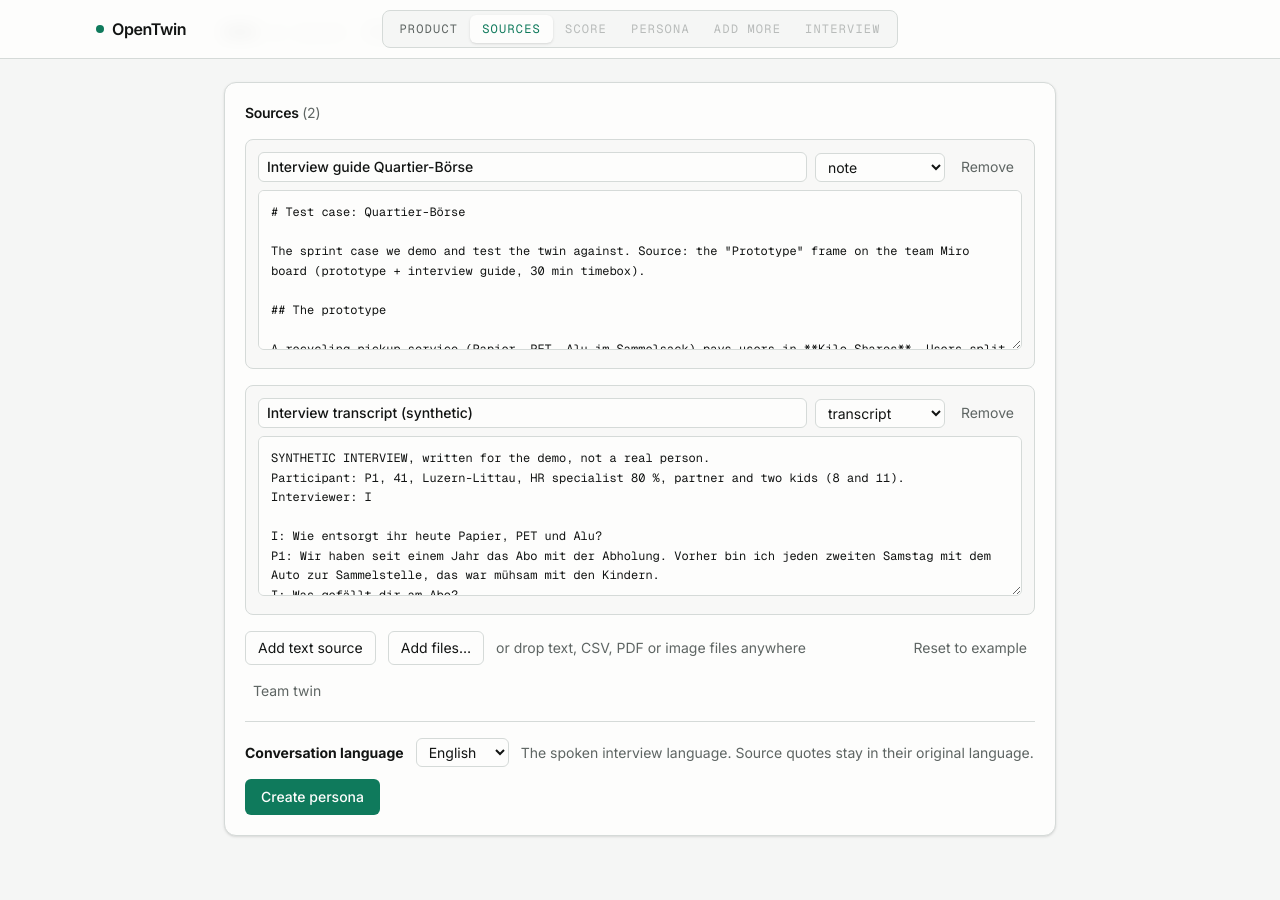
it: scoped studio defaults › gives the Team twin empty product/questions and restores defaults only on reset
The width and height of the screenshot is (1280, 900).
(page scrolled)
Click the button "Team twin": (287, 691) left=245, top=677, right=329, bottom=705
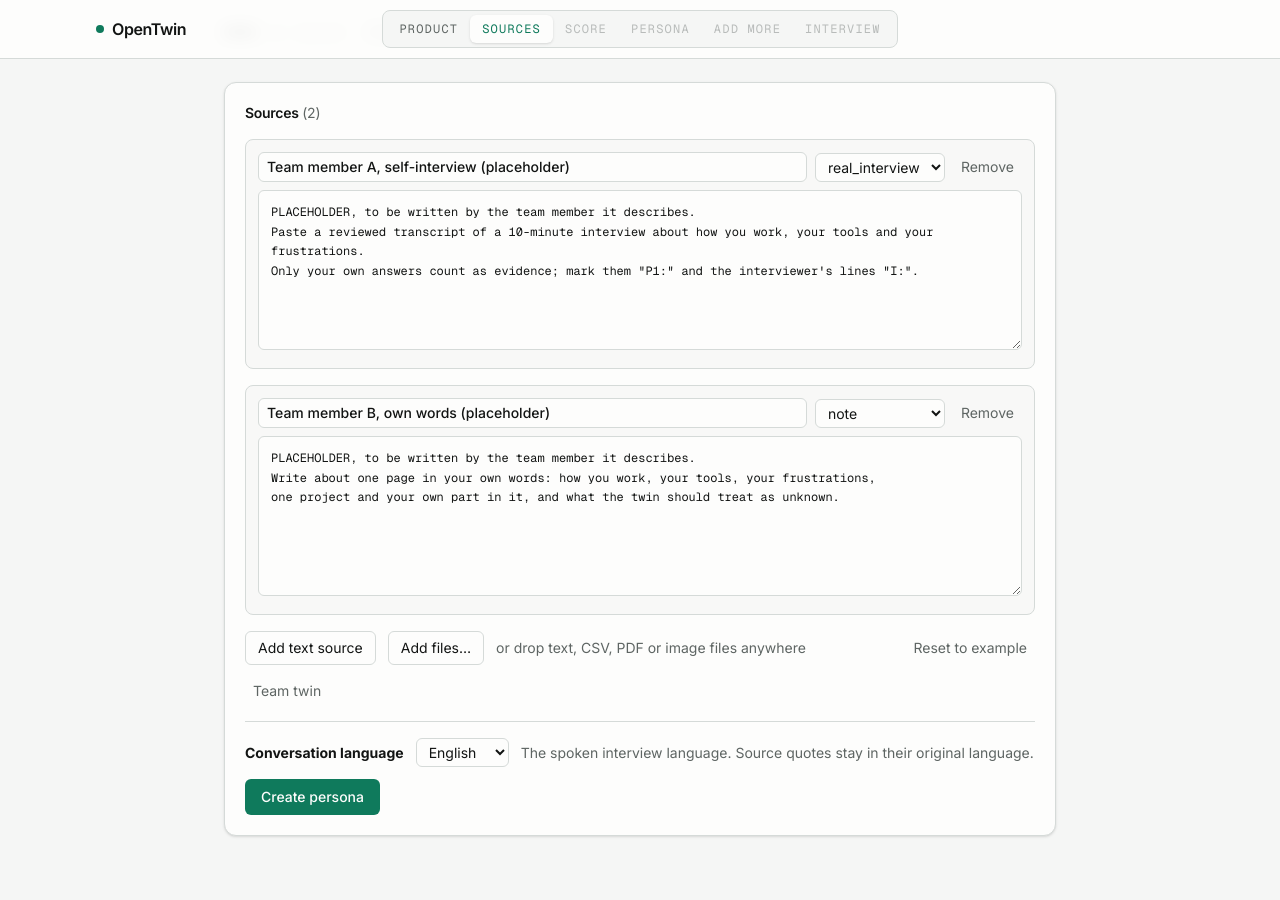
Click the button "Product": (429, 29) left=387, top=15, right=470, bottom=43
(page scrolled)
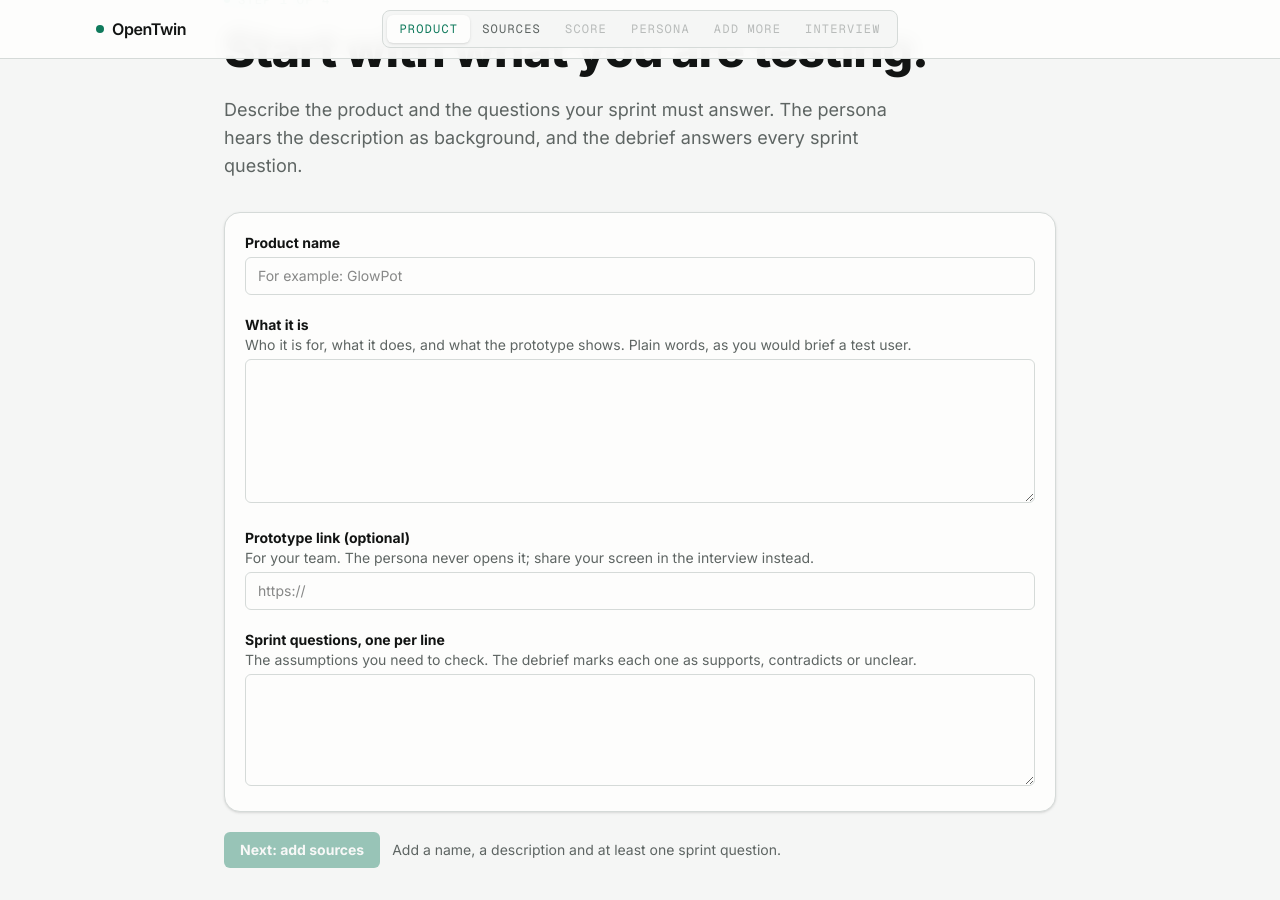
Expected: the field labelled "Product name" is empty, left=245, top=257, right=1035, bottom=295
Expected: the text box labelled "Sprint questions, one per line" is empty, left=245, top=674, right=1035, bottom=786
Click the button "Sources": (512, 29) left=470, top=15, right=553, bottom=43
(page scrolled)
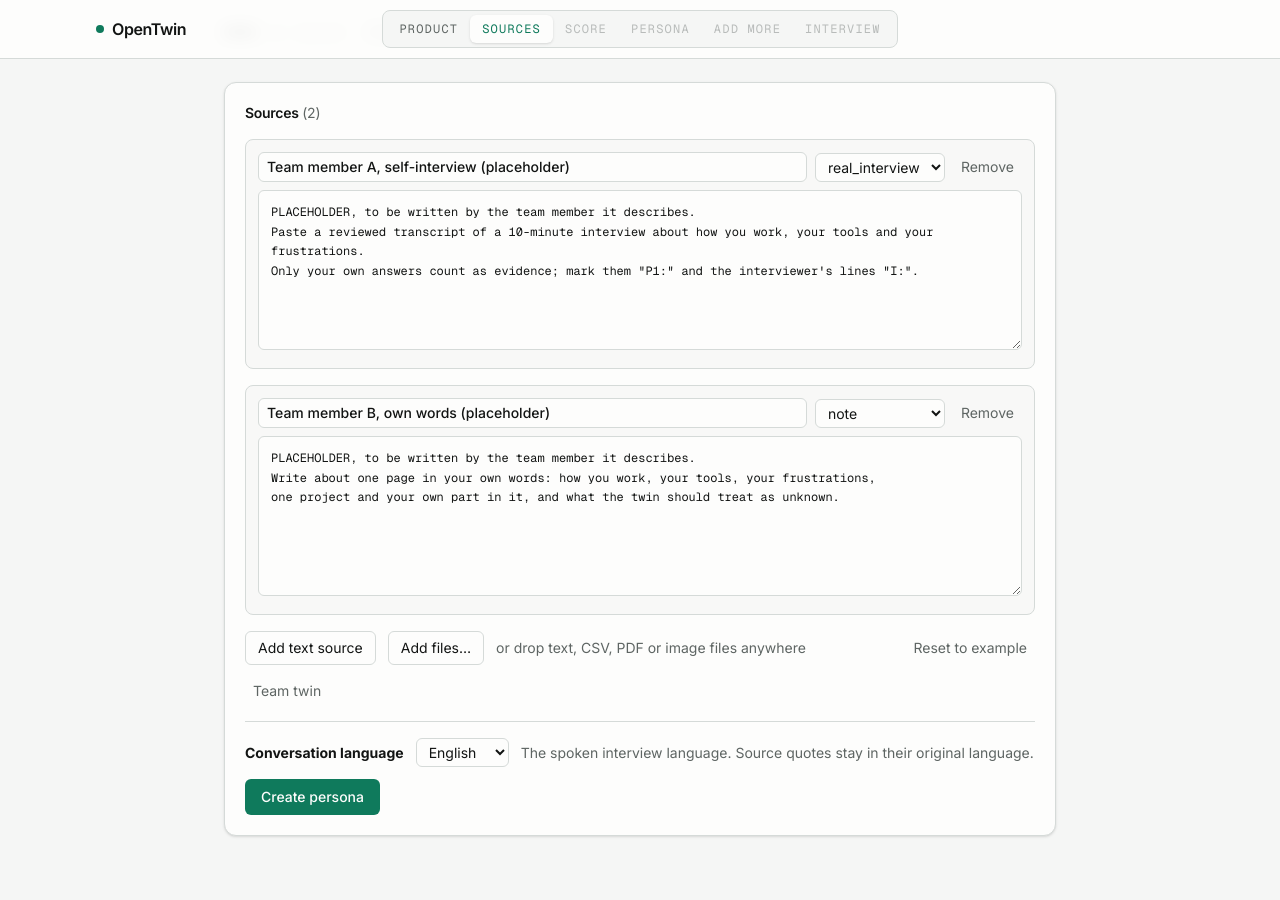
Click the button "Reset to example": (970, 648) left=905, top=634, right=1035, bottom=662
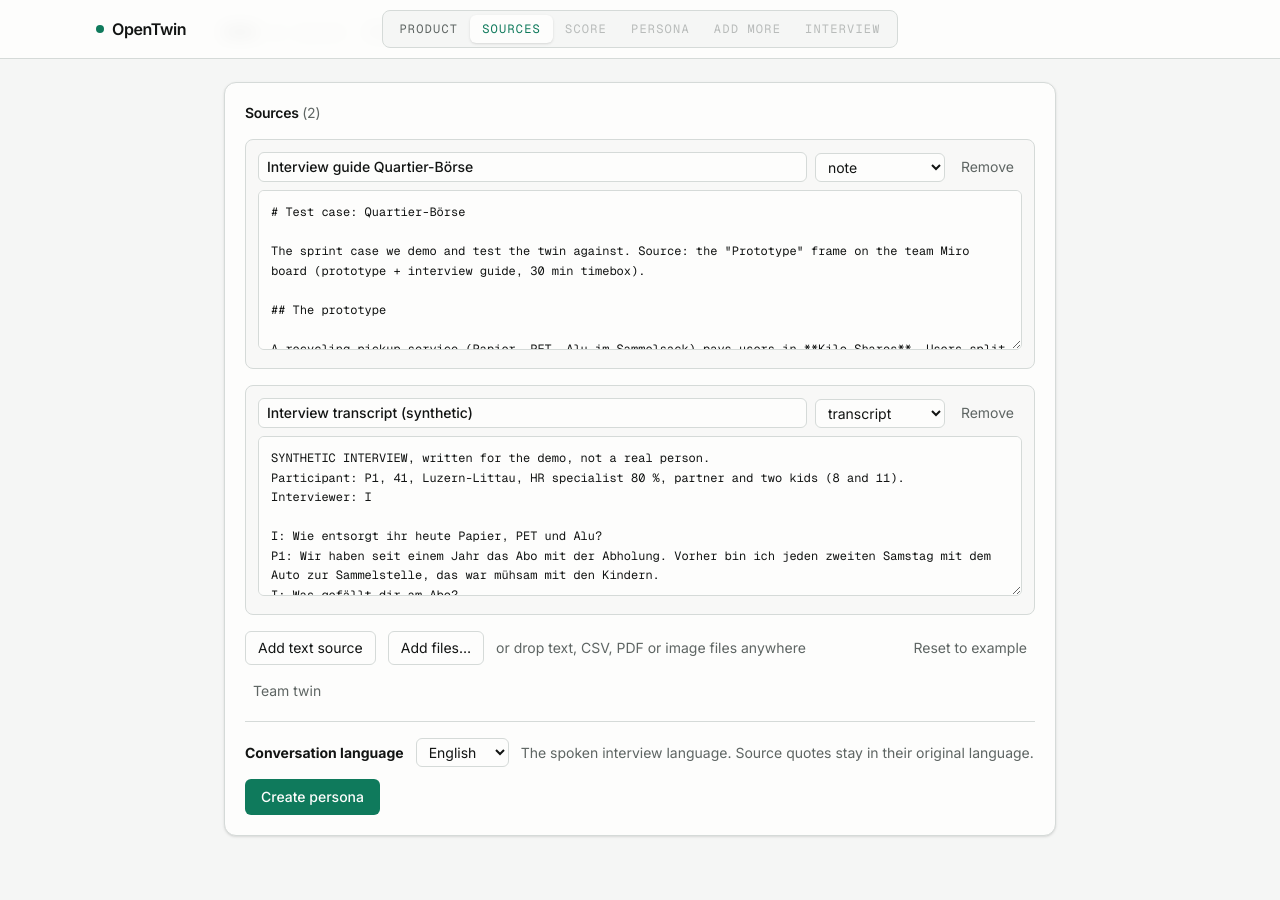
Click the button "Product": (429, 29) left=387, top=15, right=470, bottom=43
(page scrolled)
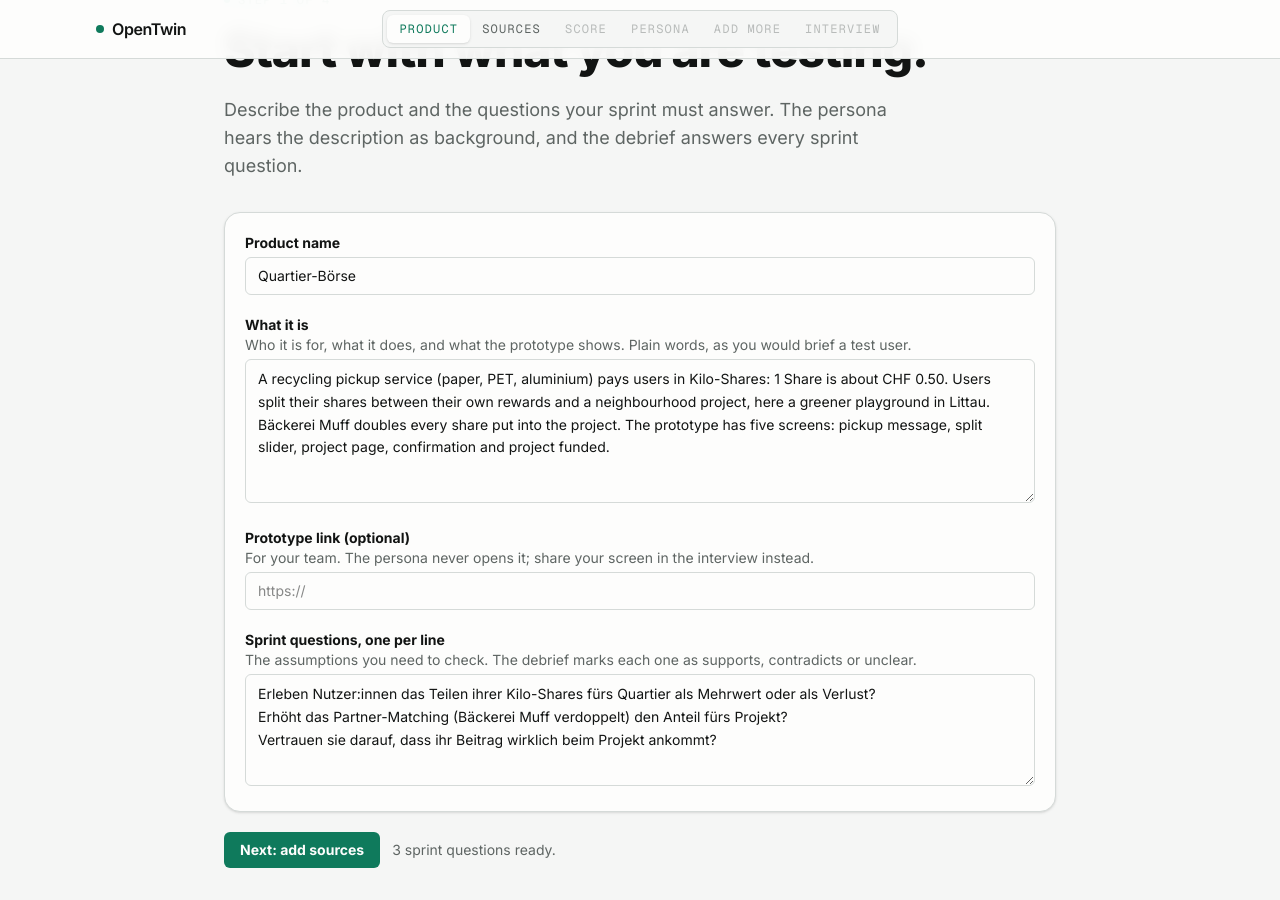
Expected: the field labelled "Product name" holds "Quartier-Börse", left=245, top=257, right=1035, bottom=295
